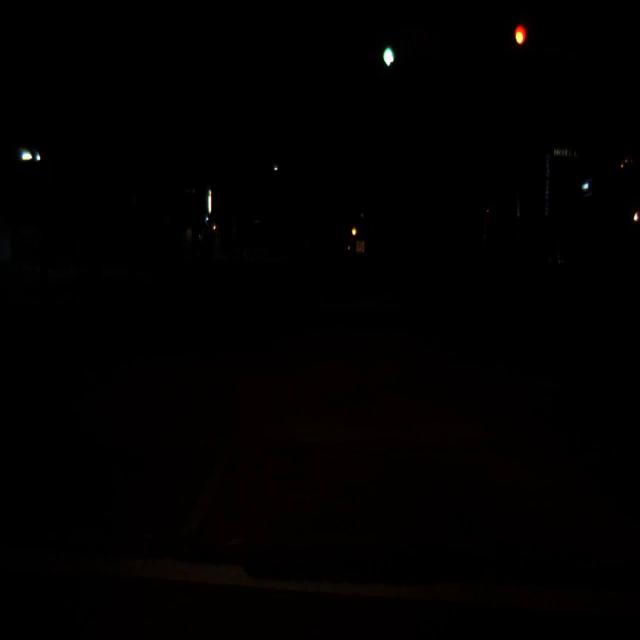go left: (378, 23, 396, 74)
go left traffic light: (378, 23, 396, 74)
stop: (513, 22, 527, 69)
stop traffic light: (513, 22, 527, 69)
